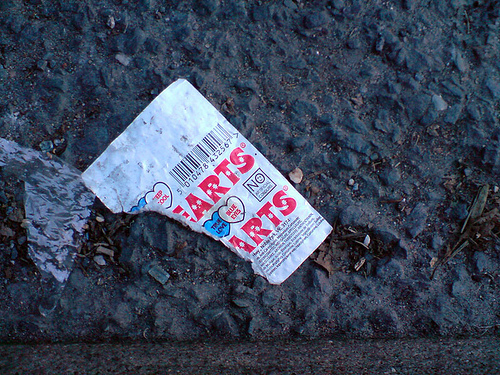litter: (78, 75, 333, 285), (1, 133, 72, 315)
